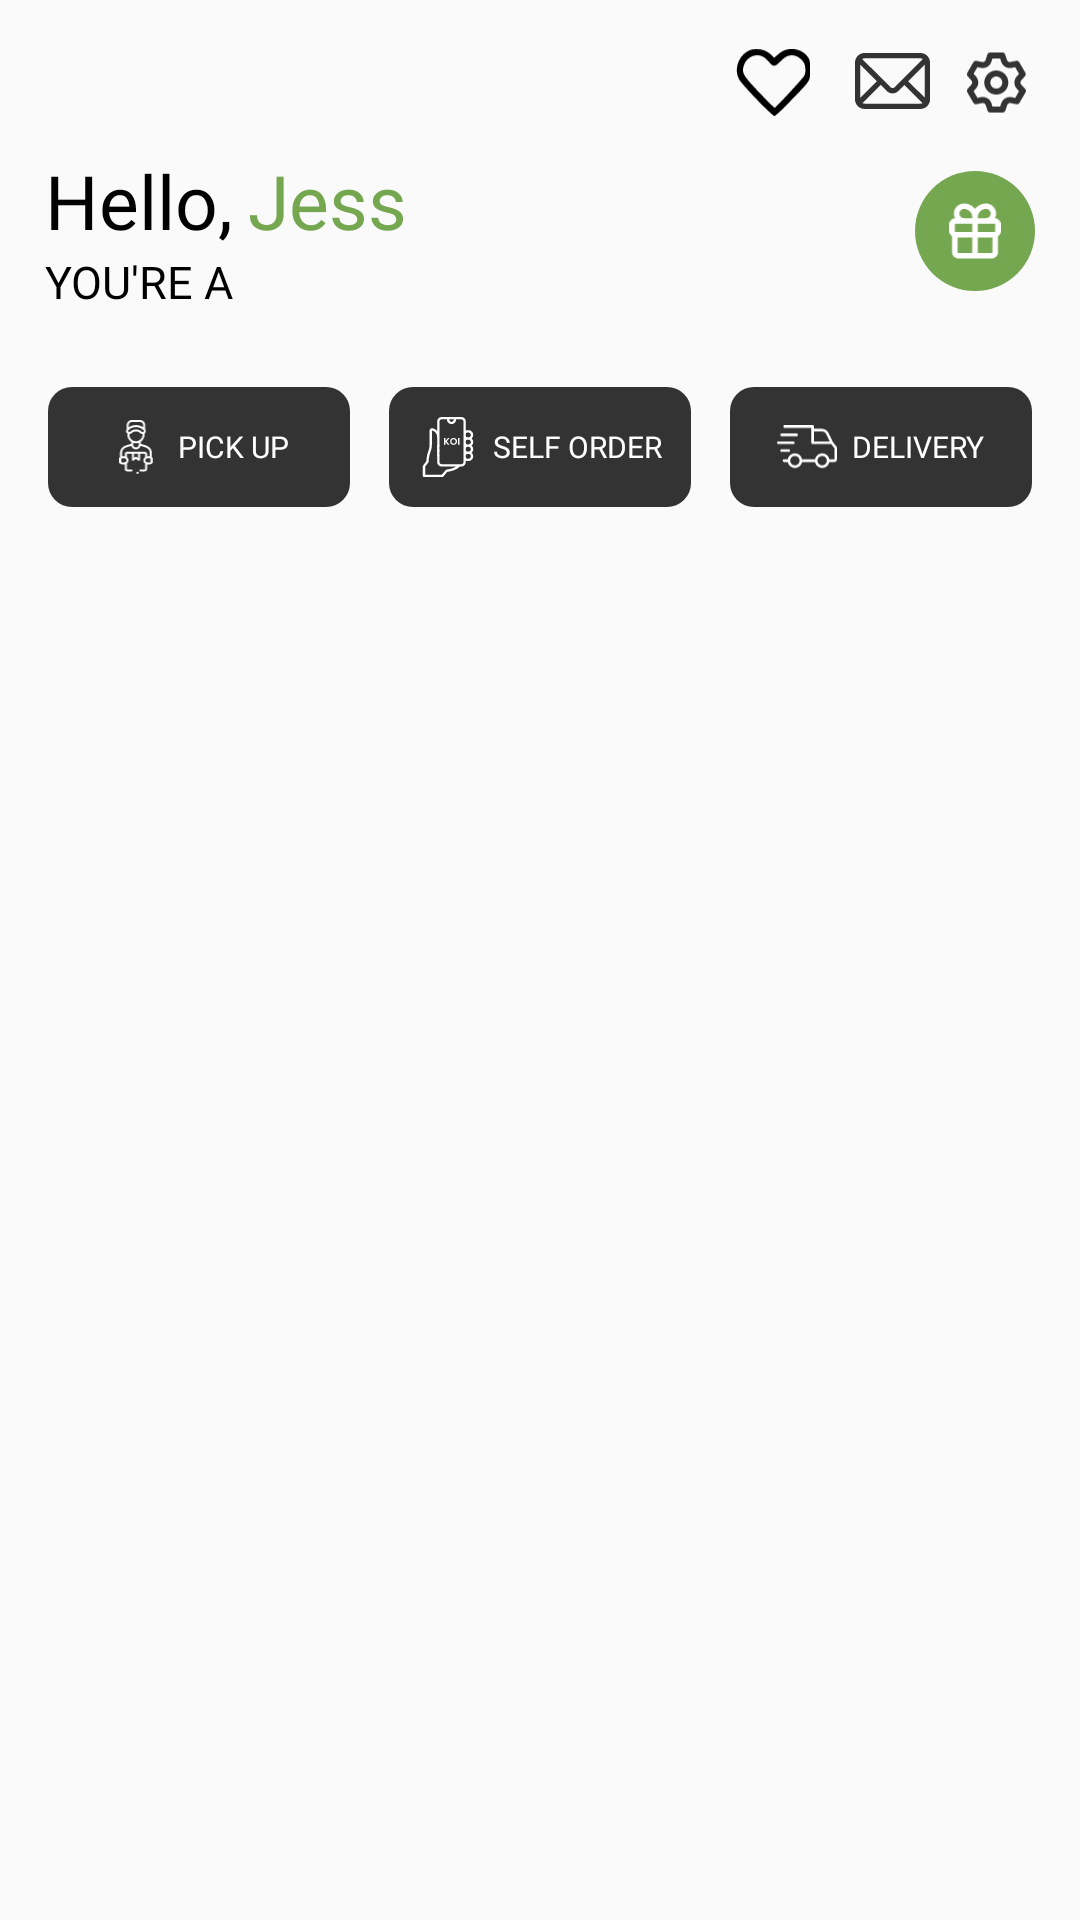

Icons on this 1080w x 1920h Android screen, each with the point to tap as [x,y]:
email: [892,81]
heart: [773,82]
reward: [975,231]
setting: [996,82]
